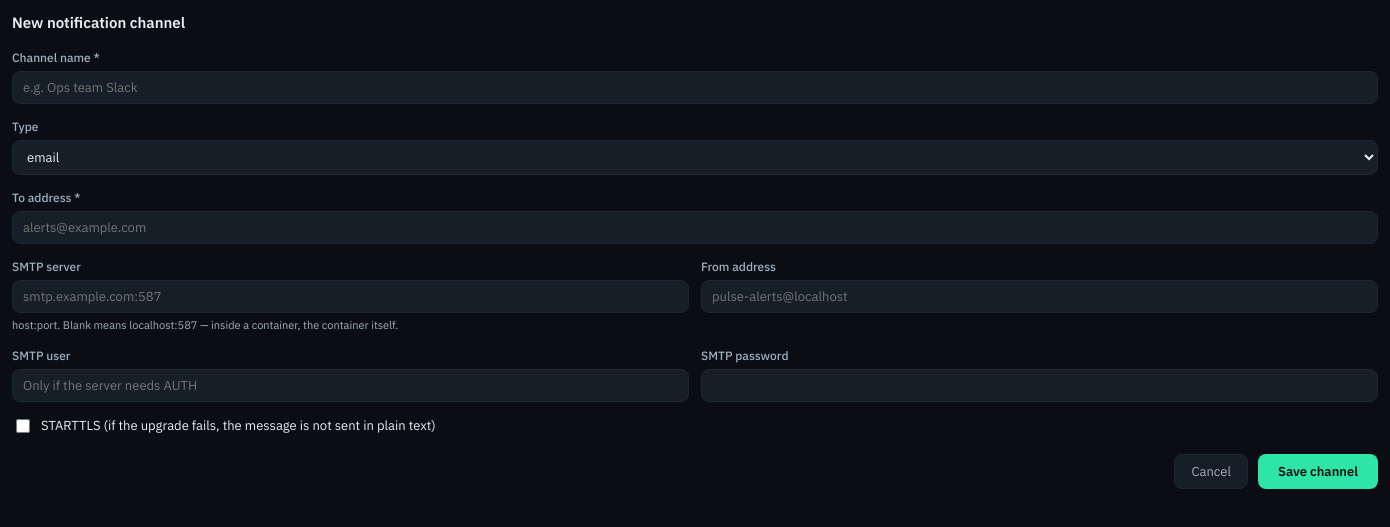
Test: AlertChannelForm › (d) validation — missing email shows Email address required error
The width and height of the screenshot is (1390, 527).
Step 1. Type "Ops Alerts" into the field with placeholder "e.g. Ops team Slack" → {"x": 695, "y": 87}, box 12,70 -> 1378,104
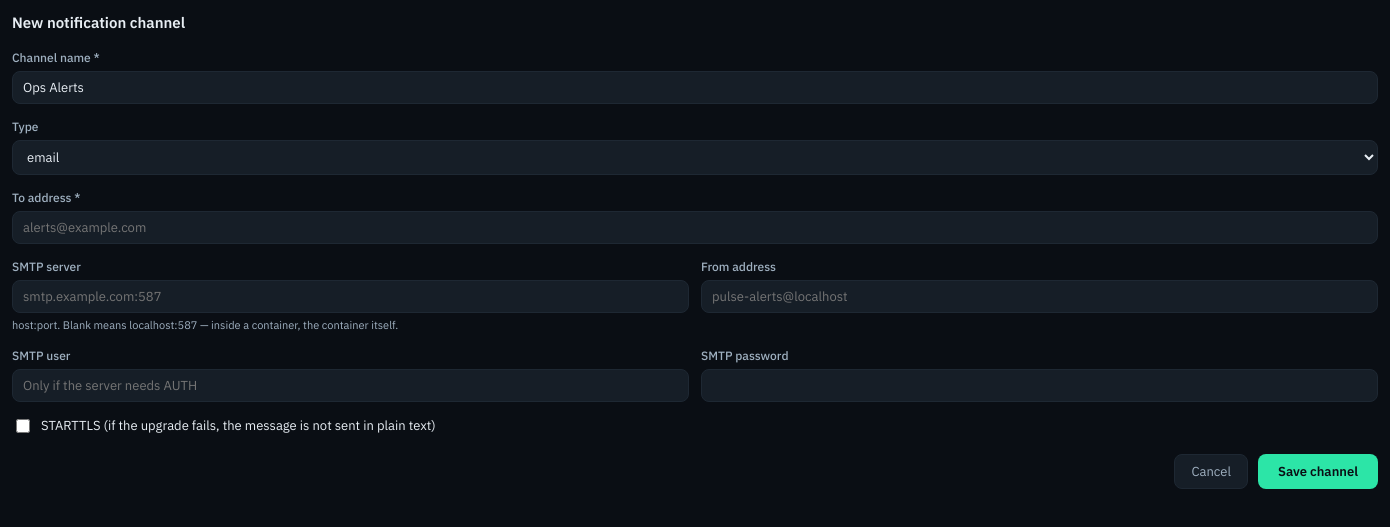
// Leave email empty and submit
Step 2. Click the button "Save channel" → {"x": 1318, "y": 472}, box 1258,454 -> 1378,489
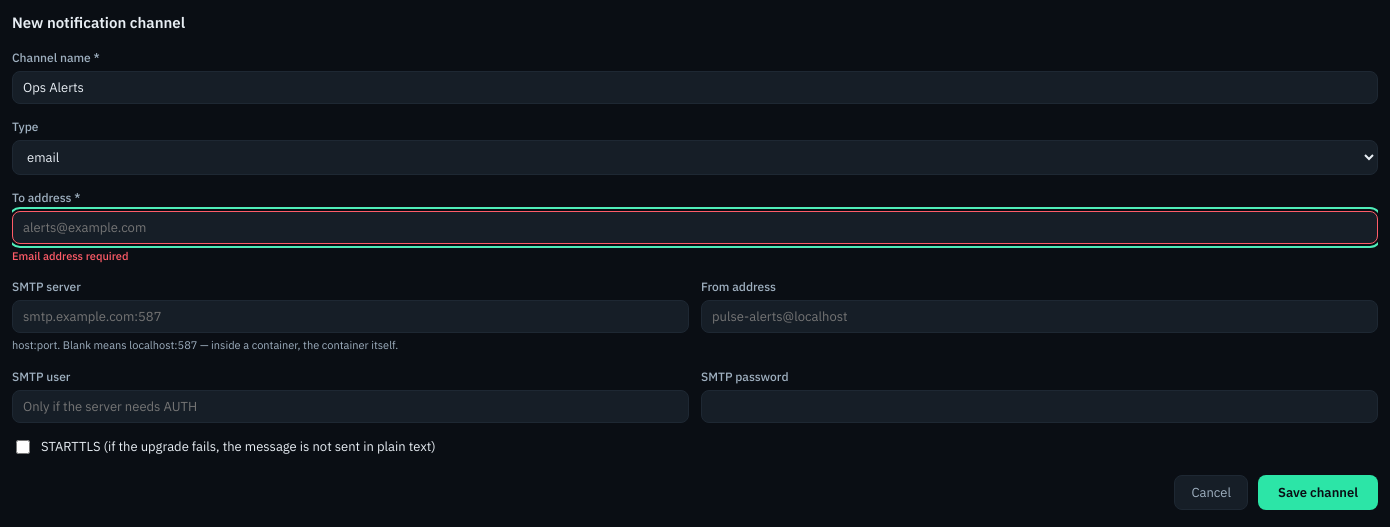
Expected: the text "Email address required" is shown, 12,248 -> 128,262
